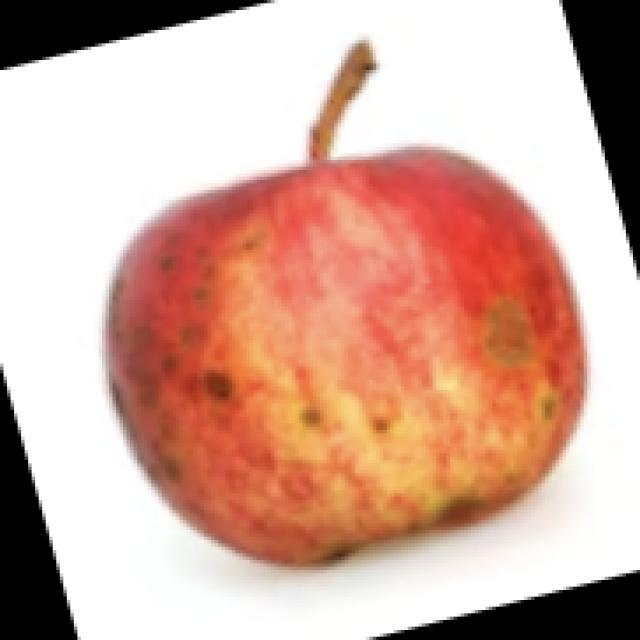Rotten: (115, 148, 575, 548)
